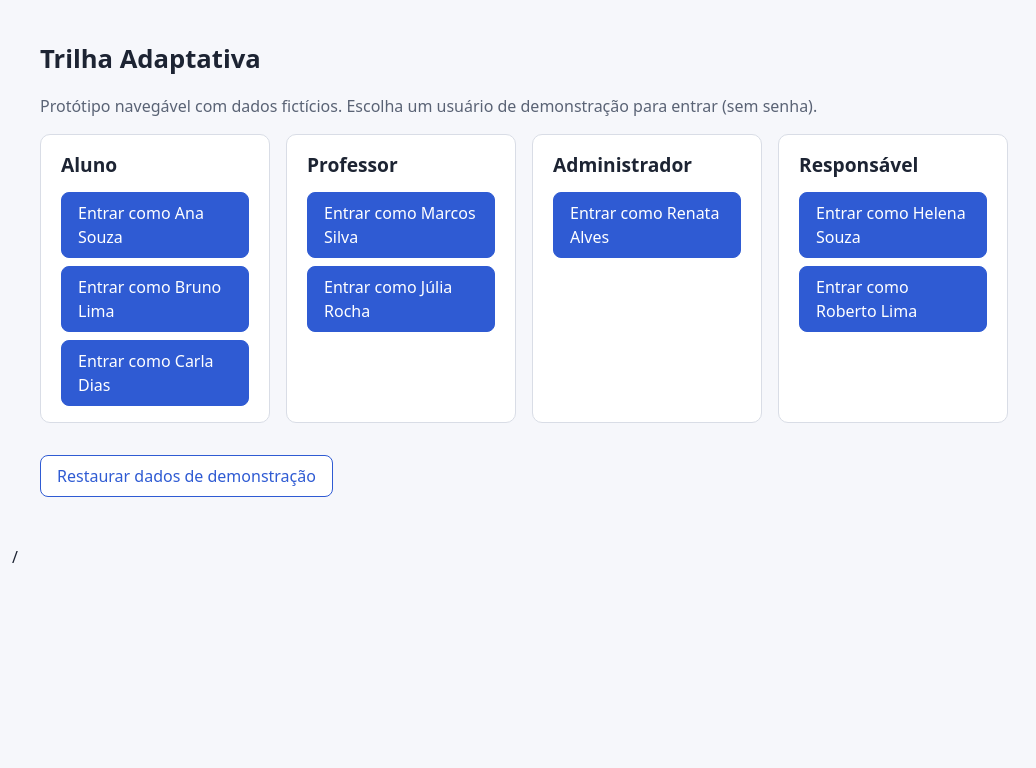
Test: perfis-acesso › entrar como usuário de demonstração abre a área do perfil, e Sair volta à entrada
Expected: the text "/" is shown, [12,546,18,568]
Click the button "Entrar como Marcos Silva".
click(401, 225)  # box [307,192,495,258]
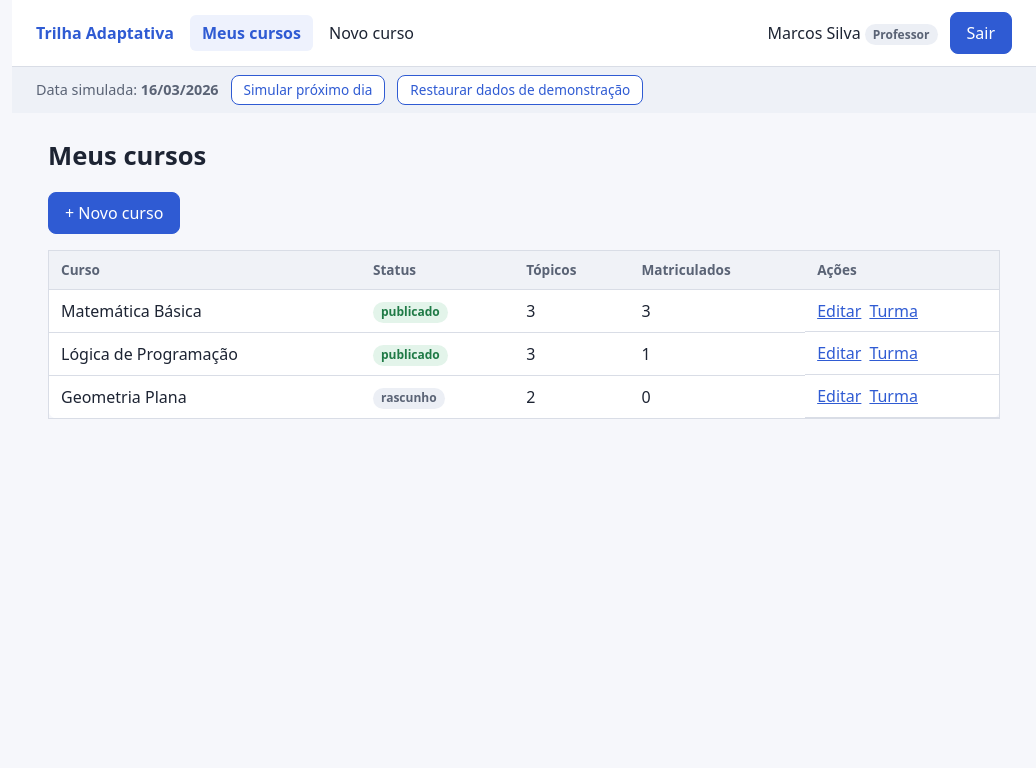
Click the button "Sair".
click(981, 33)  # box [950,12,1012,54]
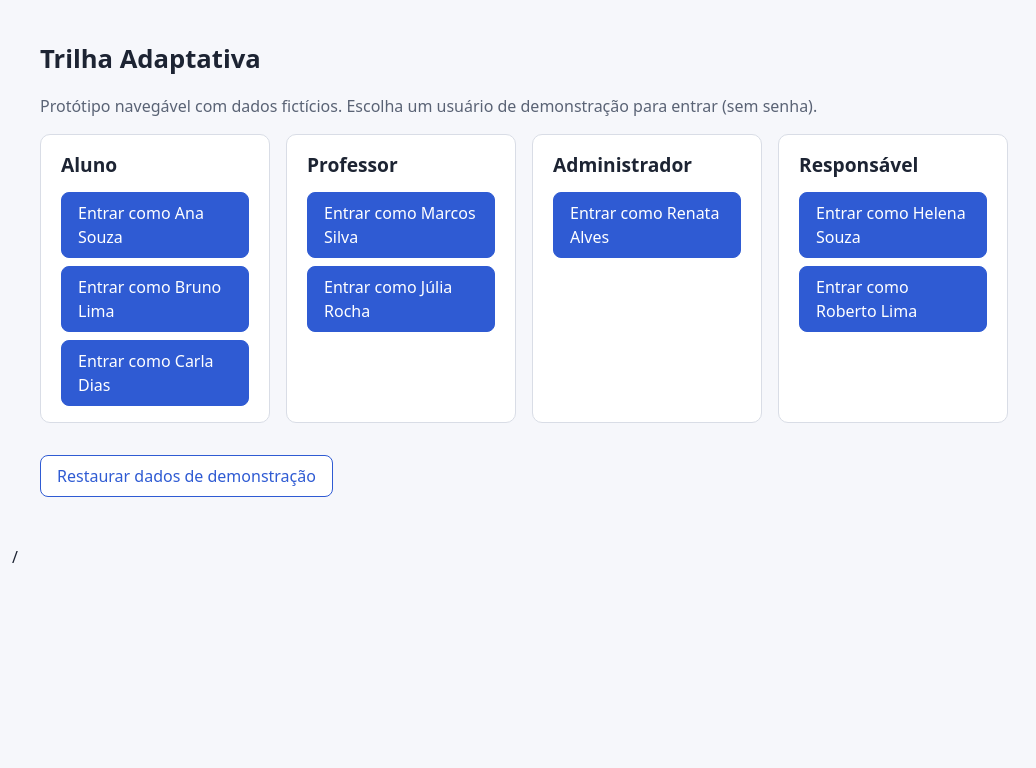
Click the button "Entrar como Helena Souza".
click(893, 225)  # box [799,192,987,258]
(page scrolled)
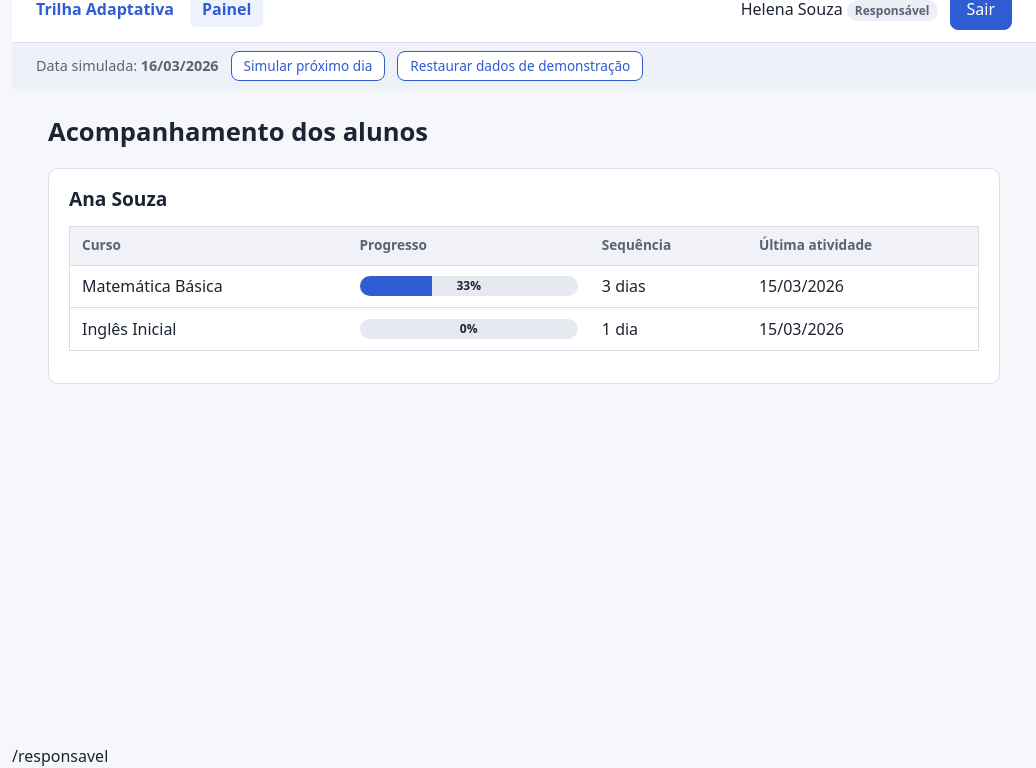
Expected: the text with test id "rota" reads "/responsavel", [12,745,108,767]
